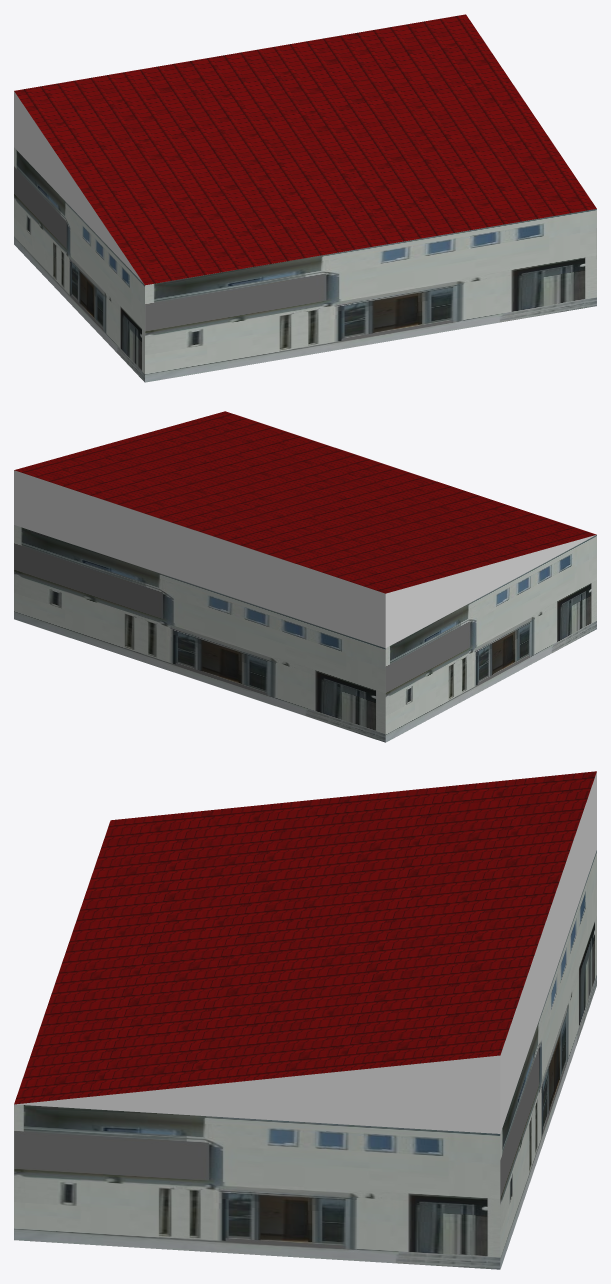
The picture shows the model from 3 angles, top to bottom: view 1: azimuth 30°, elevation 25°; view 2: azimuth 150°, elevation 25°; view 3: azimuth 270°, elevation 25°; orthographic projection. The views are drawn at different scales.
Parts seen in each view (by area): view 1: CityEngineMaterial_17_m, CityEngineMaterial_11_m, CityEngineMaterial_3_m; view 2: CityEngineMaterial_11_m, CityEngineMaterial_17_m, CityEngineMaterial_3_m; view 3: CityEngineMaterial_17_m, CityEngineMaterial_11_m, CityEngineMaterial_3_m.
Part boxes in pixels (bbox=[...]): CityEngineMaterial_17_m: bbox=[14, 14, 596, 285]; CityEngineMaterial_11_m: bbox=[14, 147, 596, 382]; CityEngineMaterial_3_m: bbox=[14, 91, 144, 284]; CityEngineMaterial_11_m: bbox=[14, 525, 596, 742]; CityEngineMaterial_17_m: bbox=[14, 411, 596, 593]; CityEngineMaterial_3_m: bbox=[14, 470, 595, 648]; CityEngineMaterial_17_m: bbox=[14, 771, 596, 1104]; CityEngineMaterial_11_m: bbox=[14, 850, 596, 1269]; CityEngineMaterial_3_m: bbox=[14, 772, 596, 1133].
Bounding box in the file's own units: 29.68 × 9.45 × 23.31.
